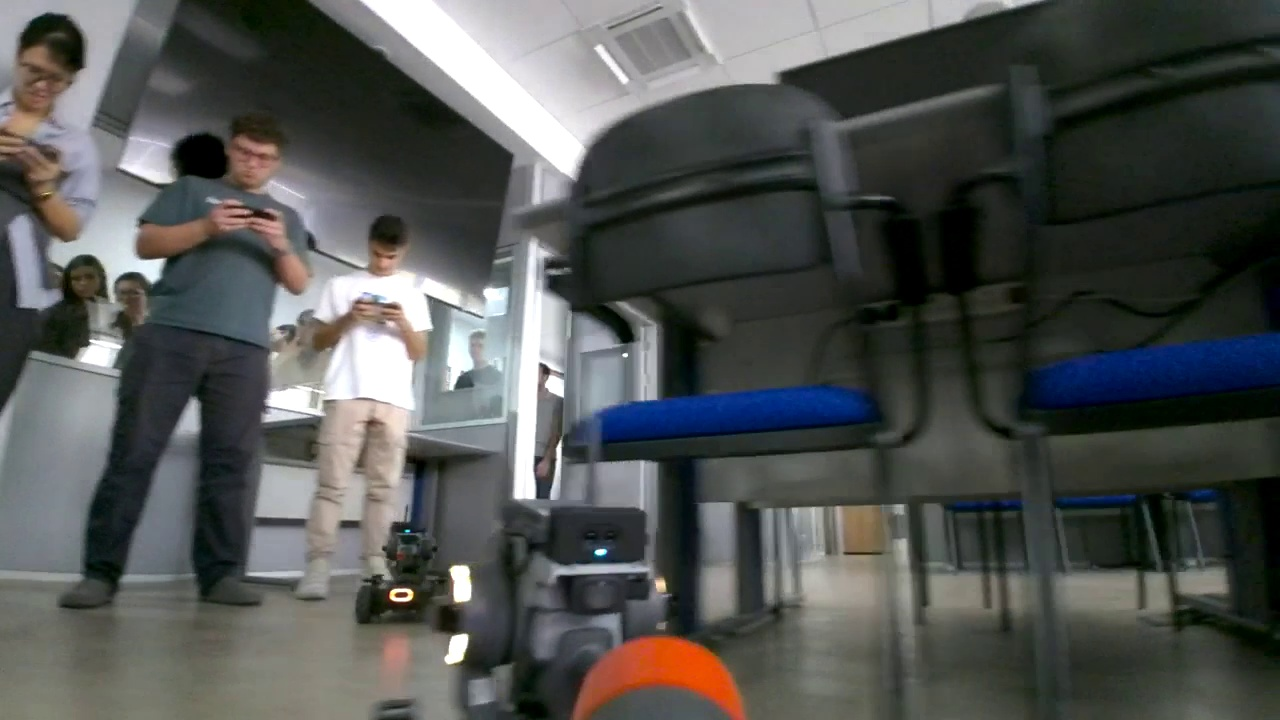robot: (448, 415, 664, 720), (356, 503, 461, 633)
